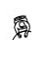Seat: (12, 14, 31, 39)
